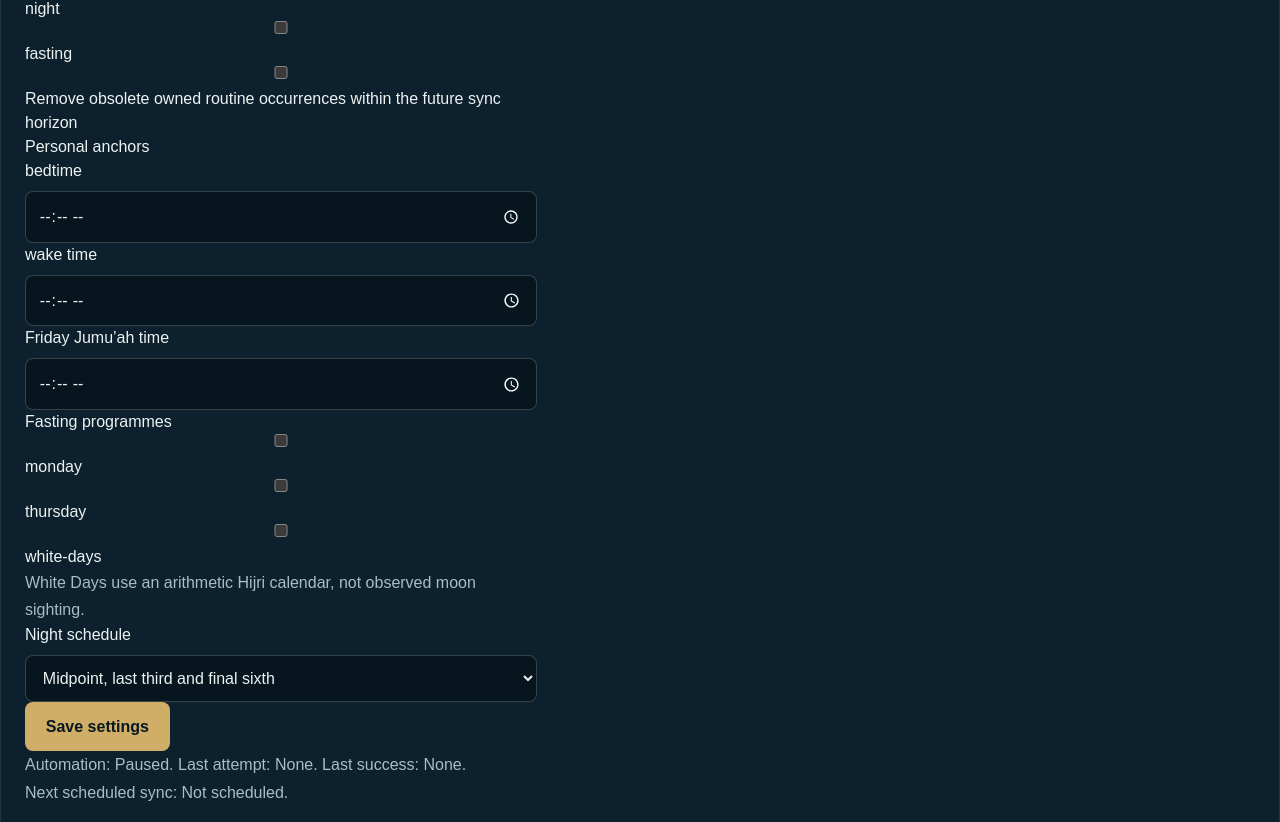
Test: saves account settings before preview and requires preview before enabling
(page scrolled)
Type "13:30" into the time field labelled "Friday Jumu’ah time" at [281, 384], box [25, 358, 537, 410]
(page scrolled)
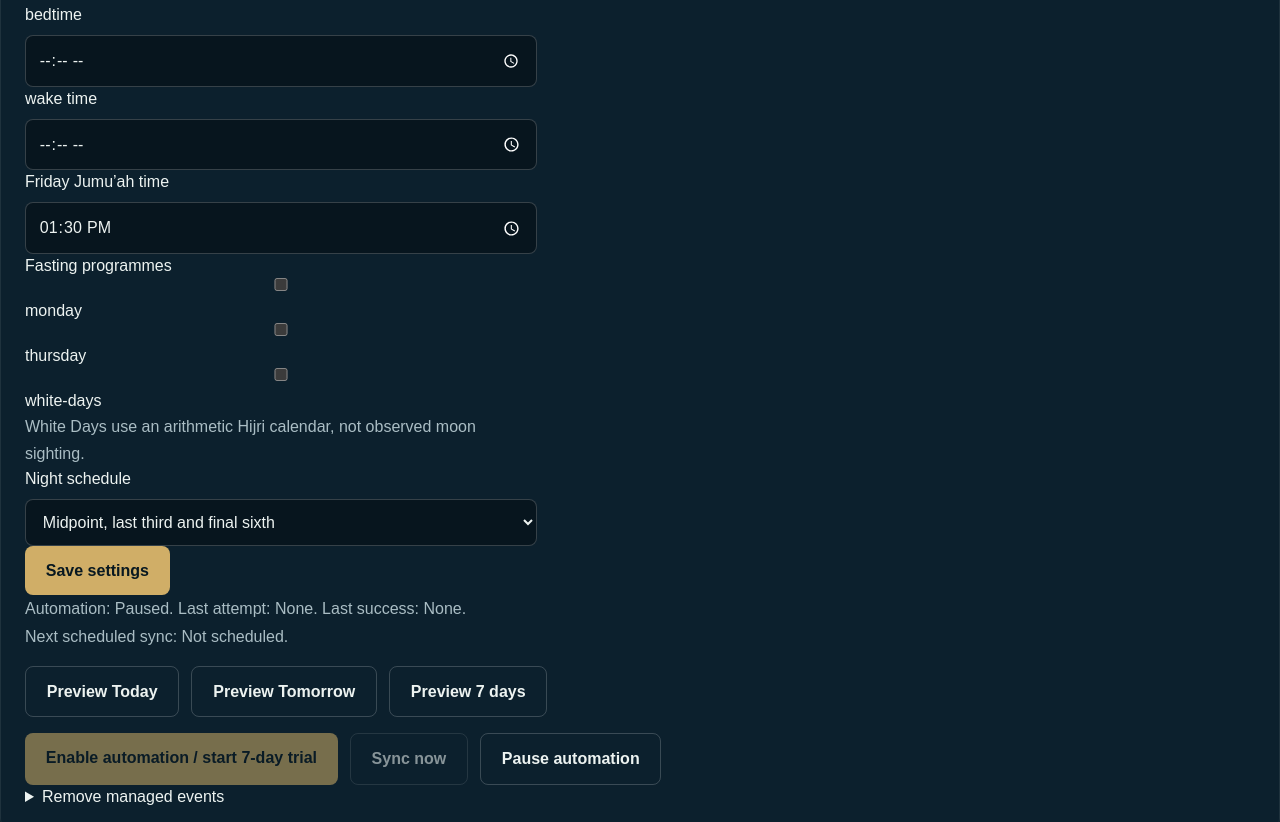
Click the button "Preview Tomorrow" at [284, 692], box [192, 666, 377, 717]
(page scrolled)
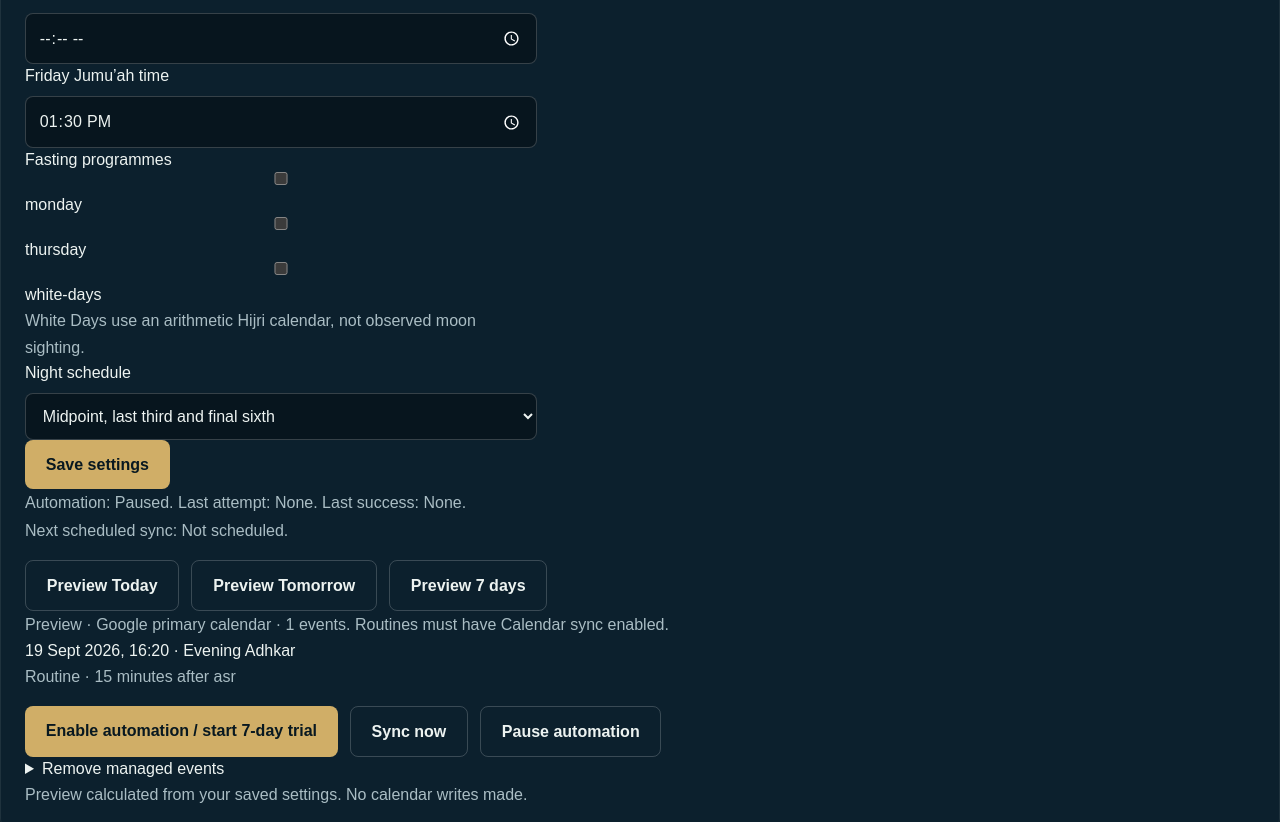
Result: the list item "Evening Adhkar" is shown at [183, 642, 295, 659]
Result: the button "Enable automation / start 7-day trial" is enabled at [25, 706, 338, 757]
